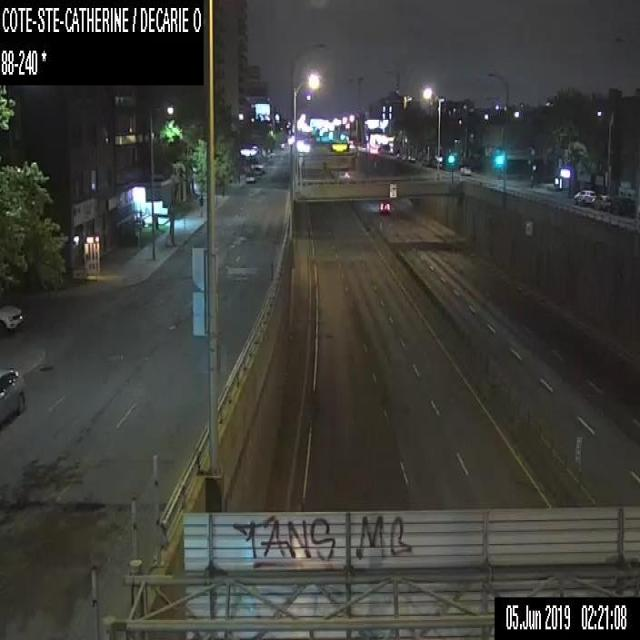vehicle: (0, 366, 25, 425), (0, 304, 23, 332), (573, 190, 595, 203), (592, 195, 610, 208), (458, 165, 471, 175), (378, 200, 389, 211), (246, 173, 255, 182)
